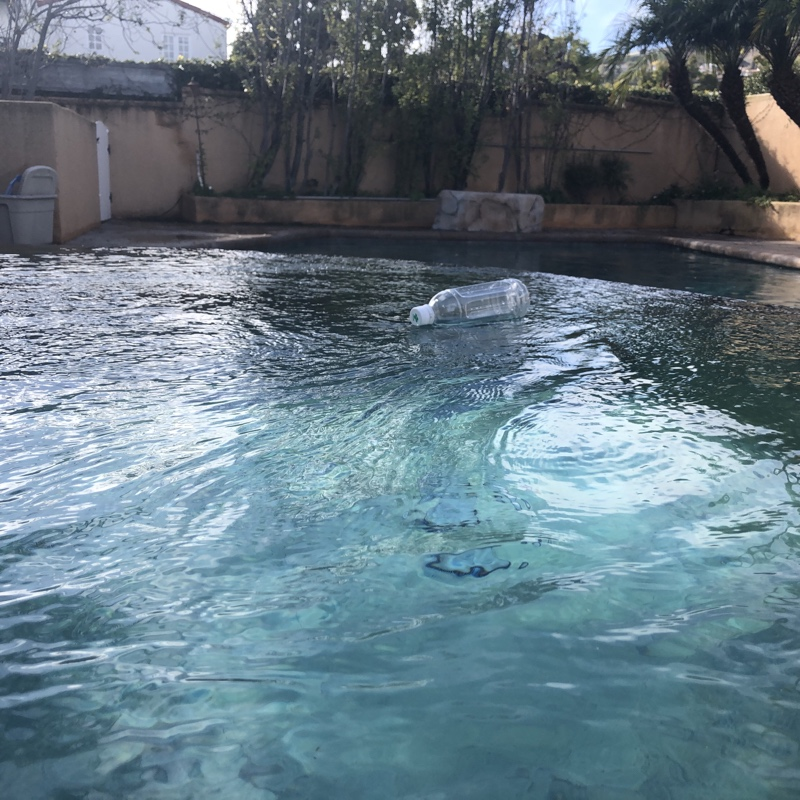Plastic Bottle: (406, 274, 533, 329)
